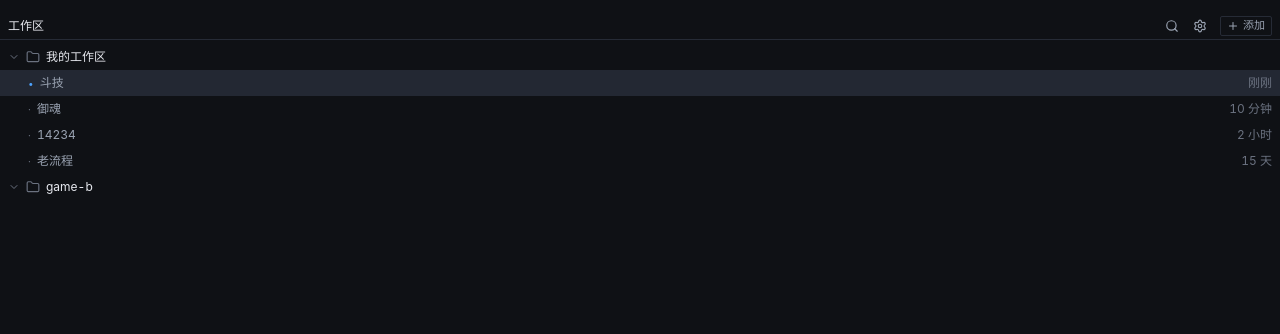
Test: 工作区区域（右栏 Tab 的本体内容） › 相对路径在第一步就被拦下（前端先给反馈，不等到引擎报错）
Click the button with test id "workspace-add" at (1246, 26), box x1=1220 y1=16 x2=1272 y2=36
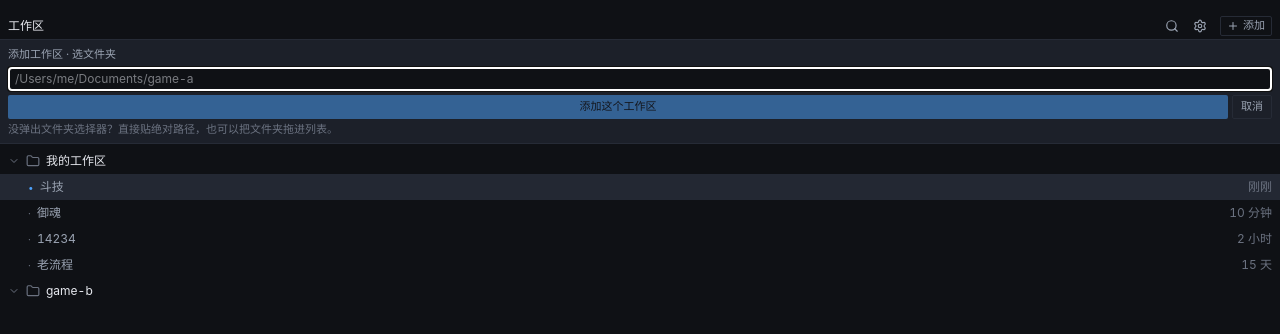
Type "./rel" into the field with placeholder "/Users/me/Documents/game-a" at (640, 78), box x1=8 y1=66 x2=1272 y2=90
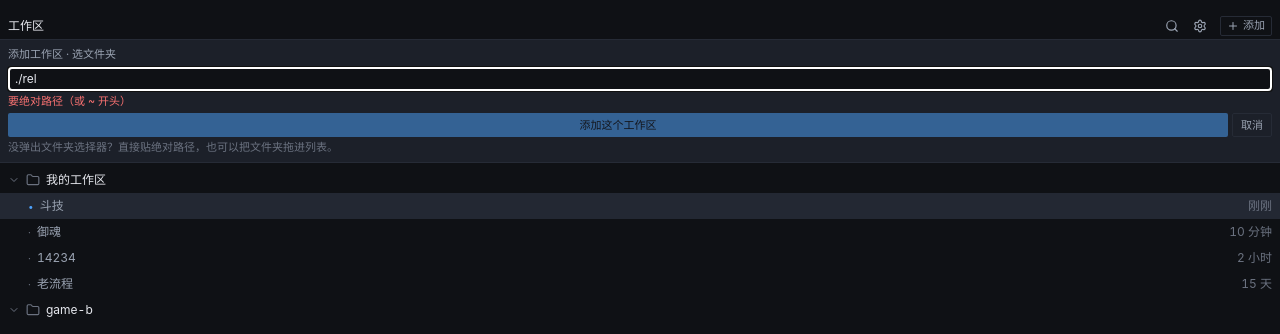
Now the button "添加这个工作区" is disabled, box x1=8 y1=113 x2=1228 y2=137
Now the text "要绝对路径（或 ~ 开头）" is shown, box x1=8 y1=94 x2=131 y2=108
